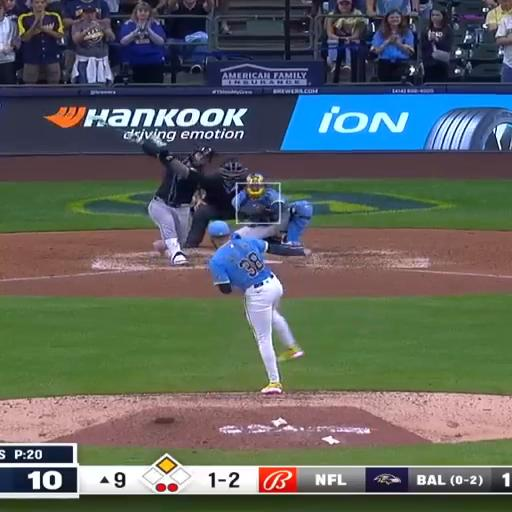bat: (97, 117, 140, 140)
